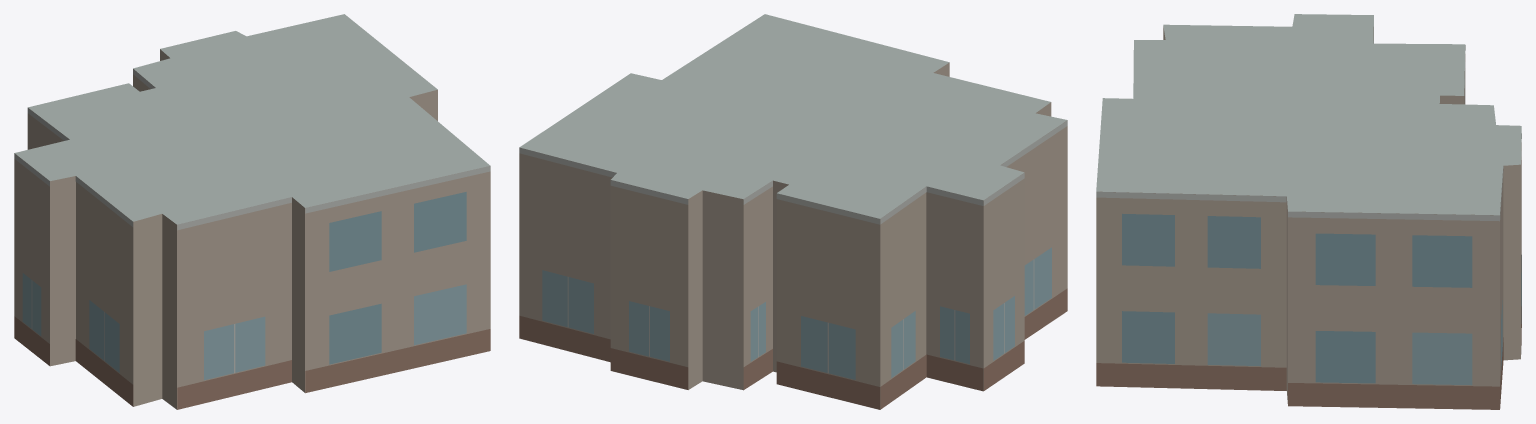
File: survey-upis-32471816.glb
3 renders of one model, left to right at view 1: azimuth 30°, elevation 25°; view 2: azimuth 150°, elevation 25°; view 3: azimuth 270°, elevation 25°, orthographic. The views are drawn at different scales.
Visible parts, largest first — view 1: survey-upis-32471816.tmp; view 2: survey-upis-32471816.tmp; view 3: survey-upis-32471816.tmp.
Boxes of the visible parts, left/top/right/bottom form: survey-upis-32471816.tmp: left=14, top=14, right=490, bottom=409; survey-upis-32471816.tmp: left=519, top=14, right=1067, bottom=409; survey-upis-32471816.tmp: left=1096, top=14, right=1521, bottom=409.
Bounding box in the file's own units: 17.75 × 8 × 15.87.
